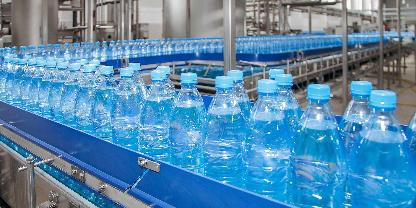Plastic Bottle: (346, 90, 412, 208), (290, 82, 346, 208), (243, 79, 289, 203), (202, 76, 244, 184), (168, 72, 202, 166), (137, 70, 173, 155), (111, 67, 141, 143), (90, 66, 118, 134), (75, 64, 99, 128), (60, 64, 82, 122), (49, 62, 69, 119)
